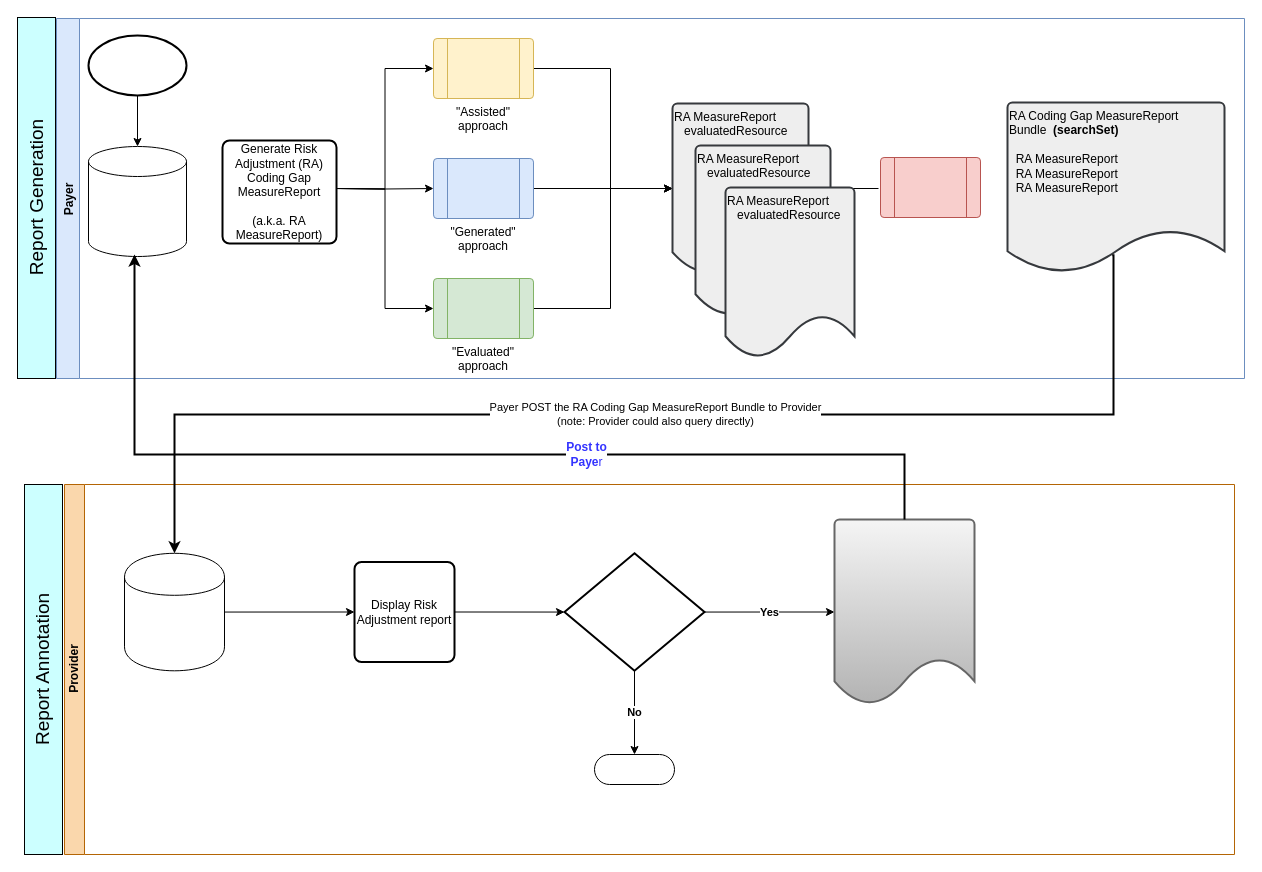
Image size: 1262x872. Some labels were removed from this diagram. Each missing label, with the centre of its shape:
Payer CC Database: the point at 137,201
Provider adds Condition Cagegory Remark(s): the point at 634,611
Provider's Patient System: the point at 174,611
RA Coding Gap Risk Adjustment Repor t ... ... Condition Category Remark ..: the point at 904,611
REST query: the point at 930,187
Start: the point at 137,65
Stop: the point at 634,769
